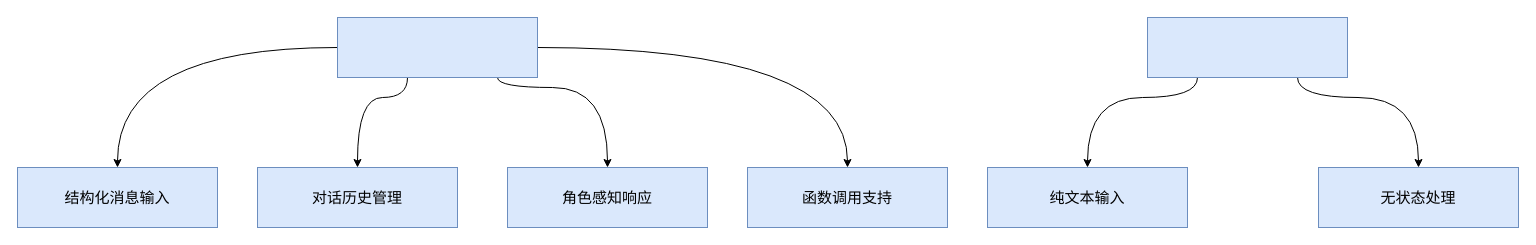
Some shapes in this 1536 by 245 pixel diagram are drawn without their labels. Here are the shapes that lost their labels. From the top down, the centre of each, then its label:
At point 437,47: "ChatModel".
At point 1247,47: "基础LLM".
